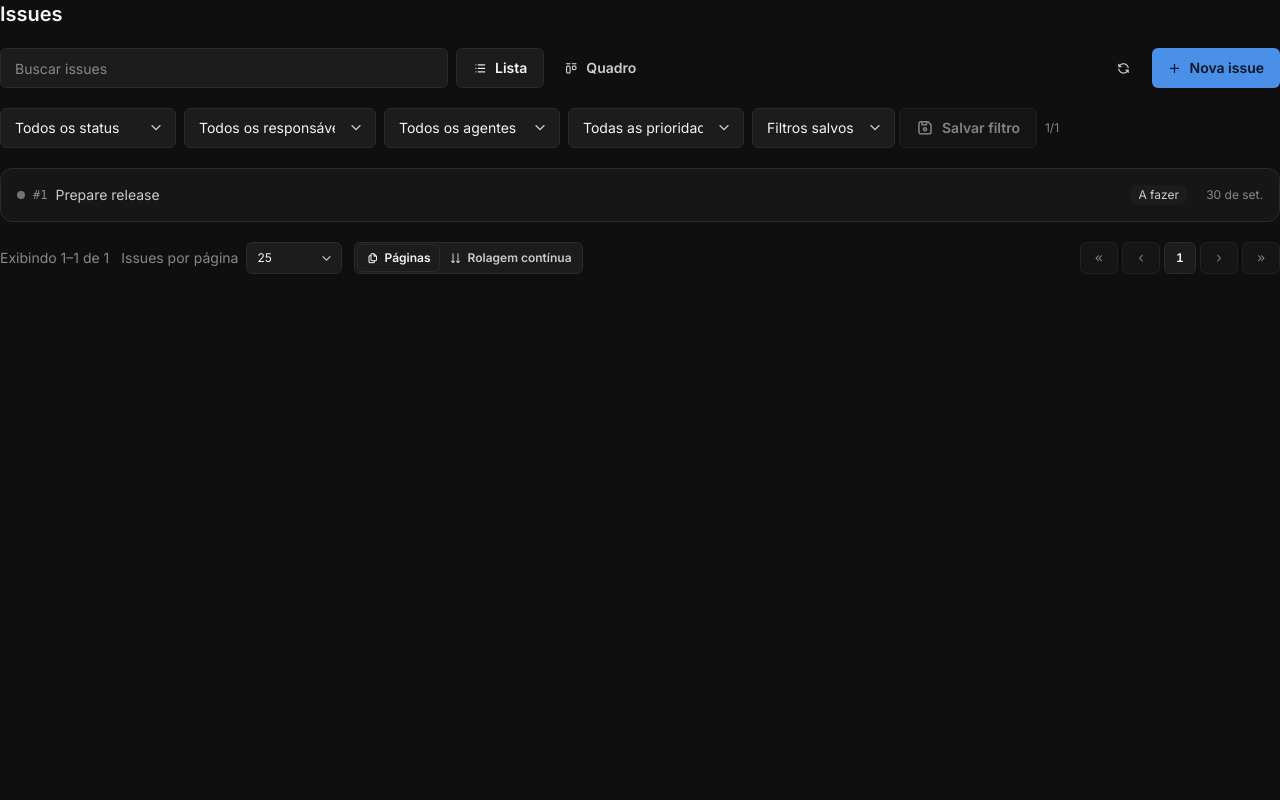
Test: WorkView › keeps comment focus while typing and submits the full message
Step 1. Click the button "#1 Prepare release" → (108, 194), box [17,181,1118,209]
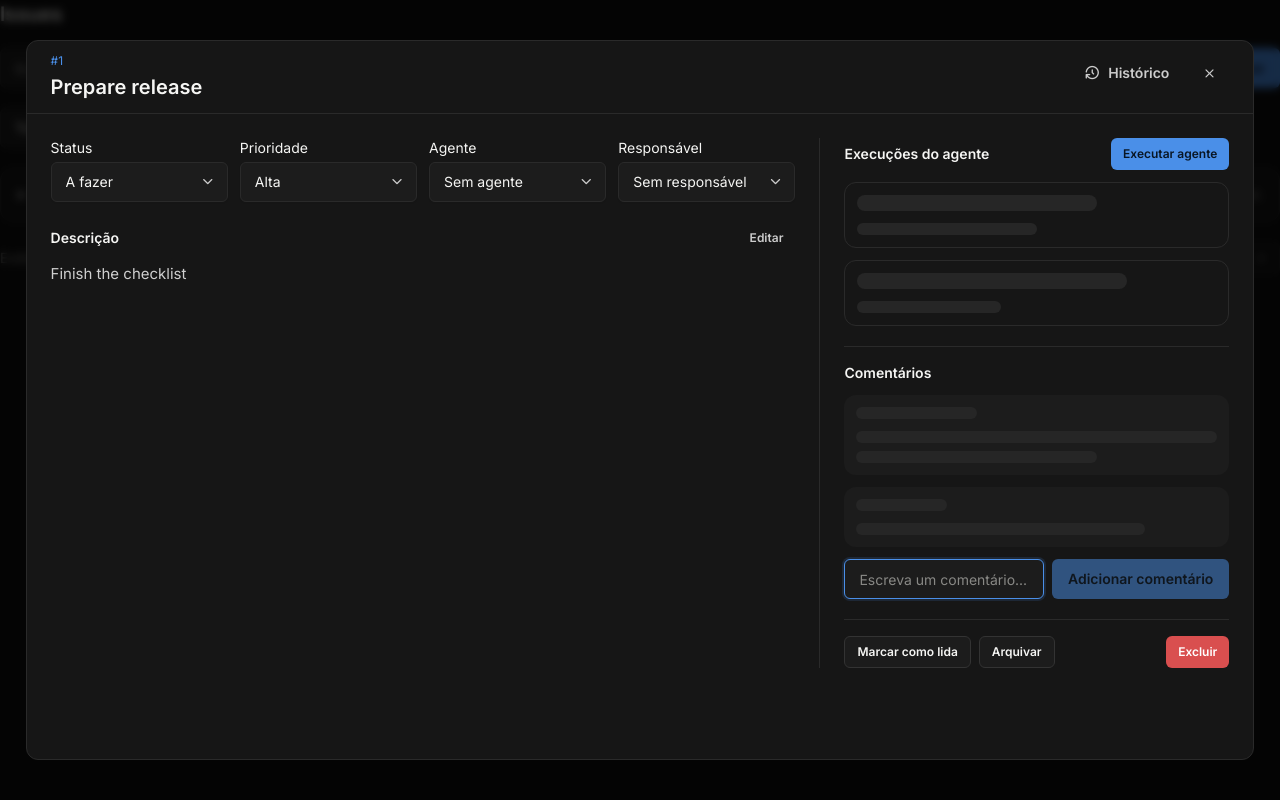
Step 2. Type "P" into the field labelled "Escreva um comentário..." → (944, 579), box [844,559,1044,599]
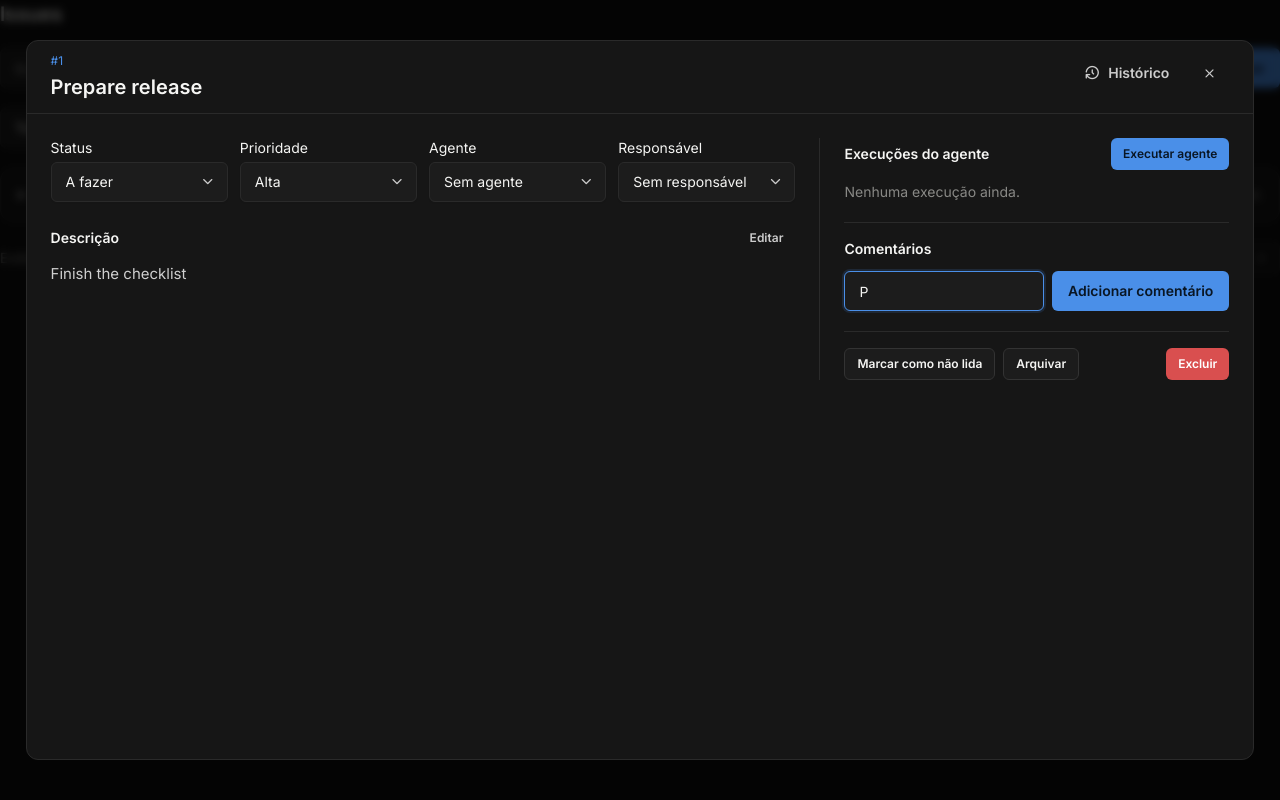
Step 3. Replace the text in the field named "Escreva um comentário..." with "Please review" → (944, 291), box [844,271,1044,311]
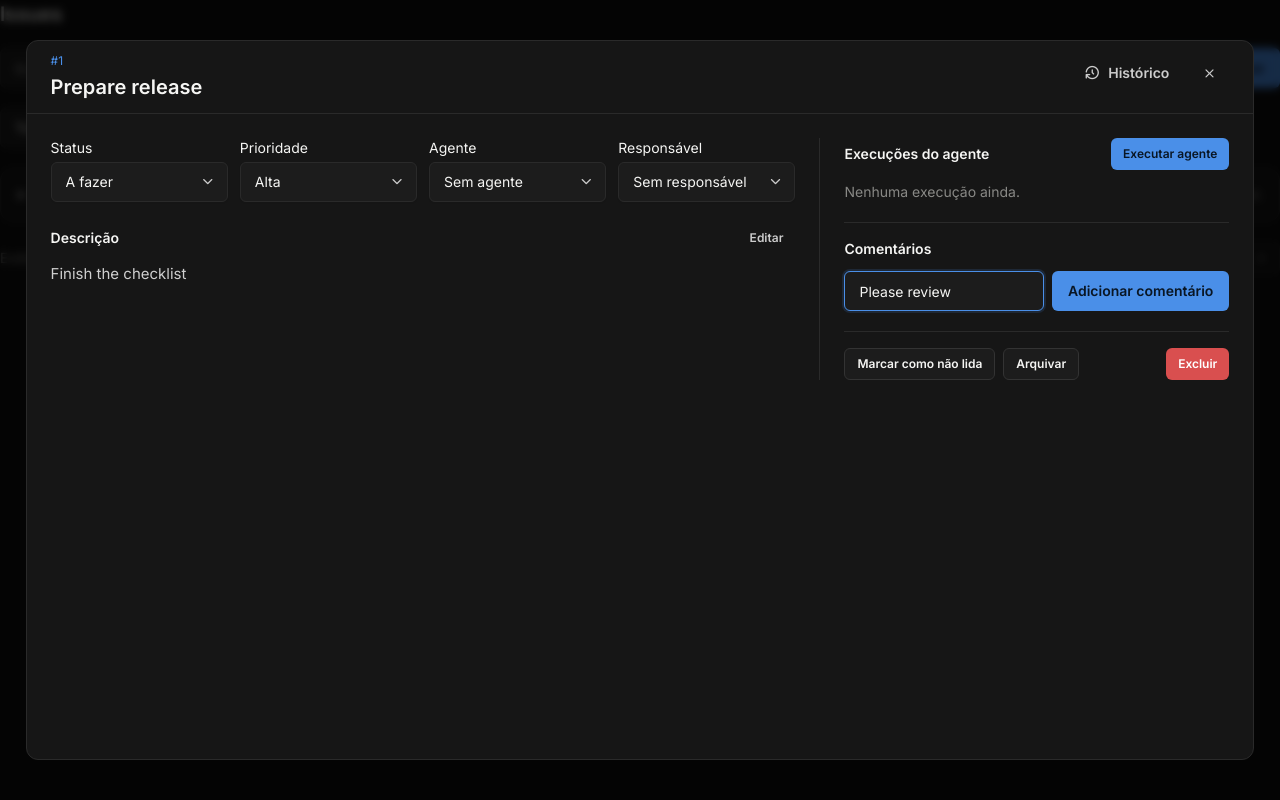
Step 4. Click the button "Adicionar comentário" → (1141, 291), box [1052,271,1229,311]
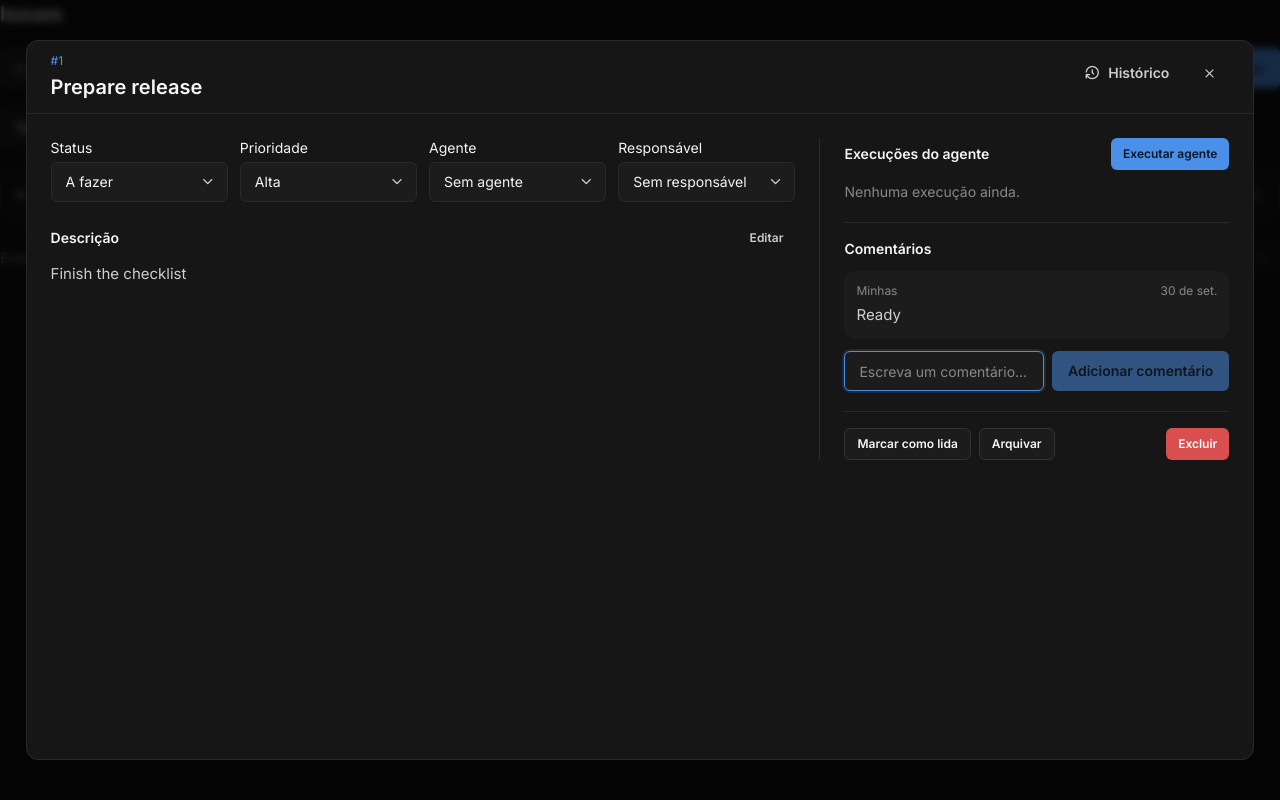
expect the text "Ready" is shown: met, box [856,305,901,324]
